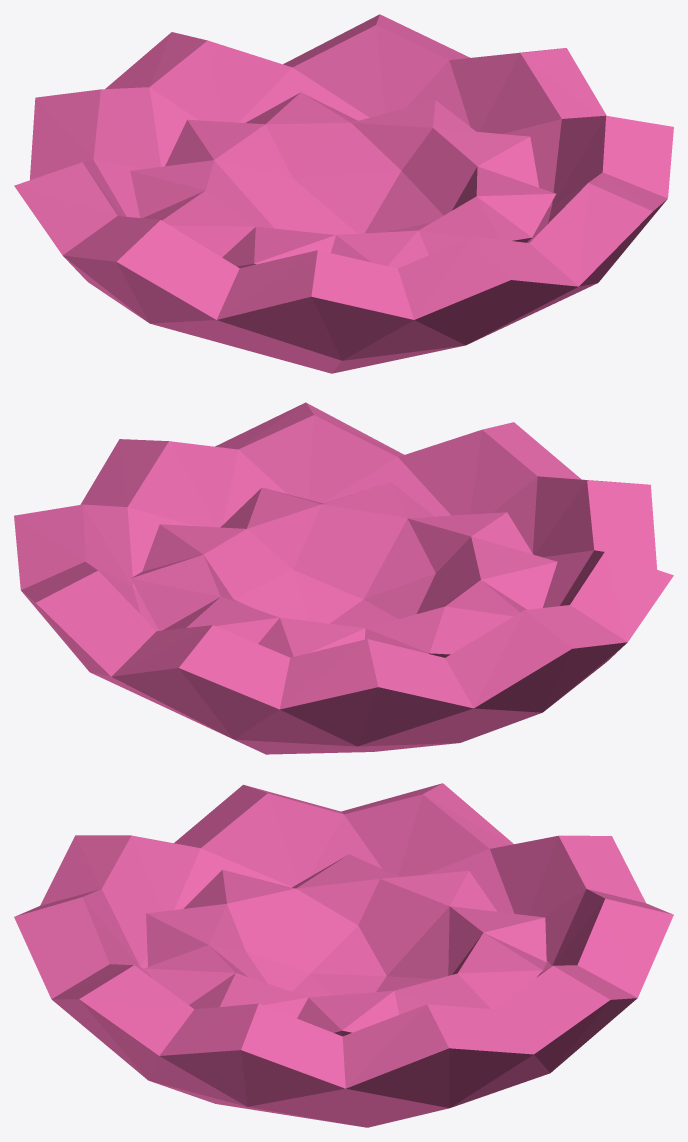
File: Lily Flower_Pink.fbx
3 renders of one model, top to bottom at view 1: azimuth 30°, elevation 25°; view 2: azimuth 150°, elevation 25°; view 3: azimuth 270°, elevation 25°, orthographic. The views are drawn at different scales.
Visible parts, largest first — view 1: Icosphere; view 2: Icosphere; view 3: Icosphere.
Part boxes in pixels (box(x1,y1,x2,y2)): Icosphere: box(14, 14, 673, 373); Icosphere: box(14, 402, 673, 754); Icosphere: box(14, 783, 673, 1127).
Size of the model in its own units: 87.37 by 28.71 by 91.19.
